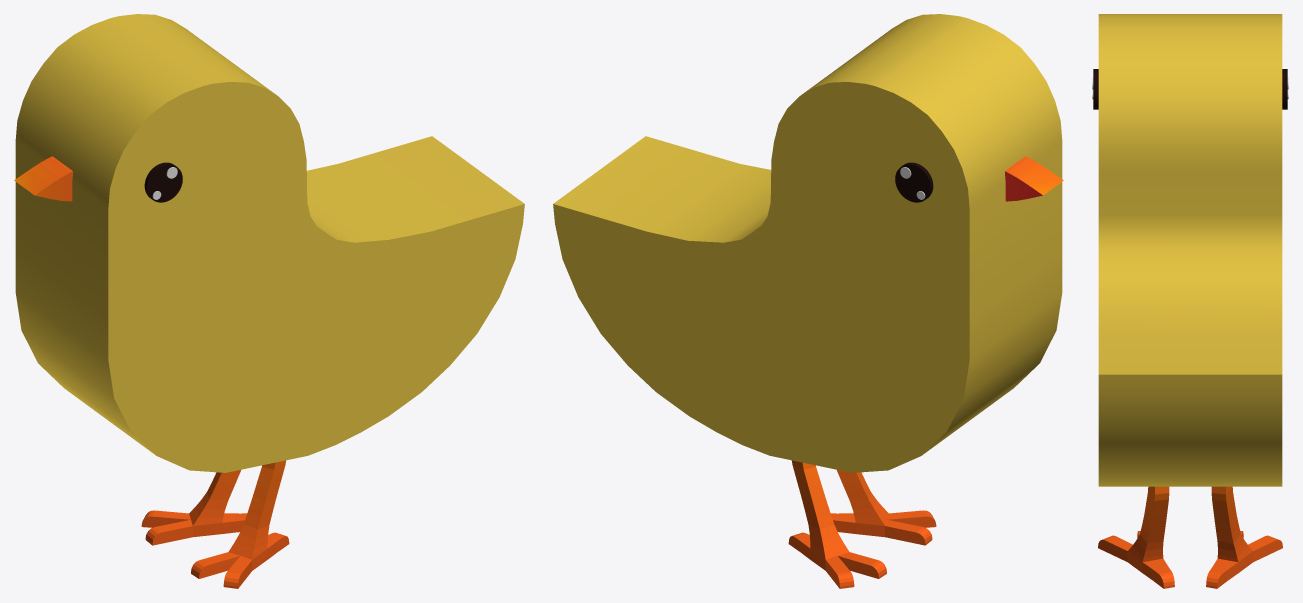
Rendered from Baby_Chick.gltf.
3 renders of one model, left to right at view 1: azimuth 30°, elevation 25°; view 2: azimuth 150°, elevation 25°; view 3: azimuth 270°, elevation 25°, orthographic.
Visible parts, largest first — view 1: Cube.6282, Cube.6284, Cube.6283, Circle.1944; view 2: Cube.6282, Cube.6284, Cube.6283, Circle.1944; view 3: Cube.6282, Cube.6284, Circle.1944.
Boxes of the visible parts, bbox=[...] form: Cube.6282: bbox=[15, 14, 524, 472]; Cube.6284: bbox=[141, 460, 289, 588]; Cube.6283: bbox=[14, 156, 72, 201]; Circle.1944: bbox=[144, 162, 182, 202]; Cube.6282: bbox=[553, 14, 1062, 472]; Cube.6284: bbox=[788, 460, 936, 588]; Cube.6283: bbox=[1005, 156, 1063, 201]; Circle.1944: bbox=[895, 162, 933, 202]; Cube.6282: bbox=[1098, 14, 1282, 486]; Cube.6284: bbox=[1098, 486, 1282, 588]; Circle.1944: bbox=[1092, 69, 1288, 109].
Size of the model in its own units: 1.83 by 1.97 by 0.6919.
Materials: 4 (1 with a texture image).
